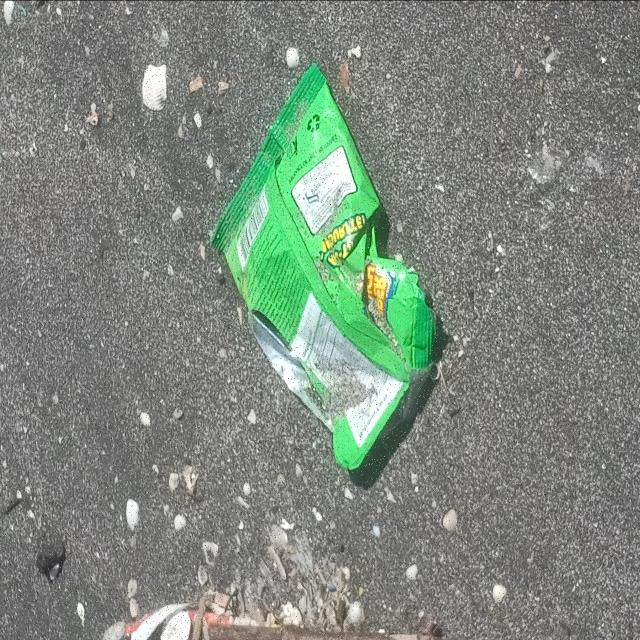plastic_waste: (210, 60, 440, 474)
